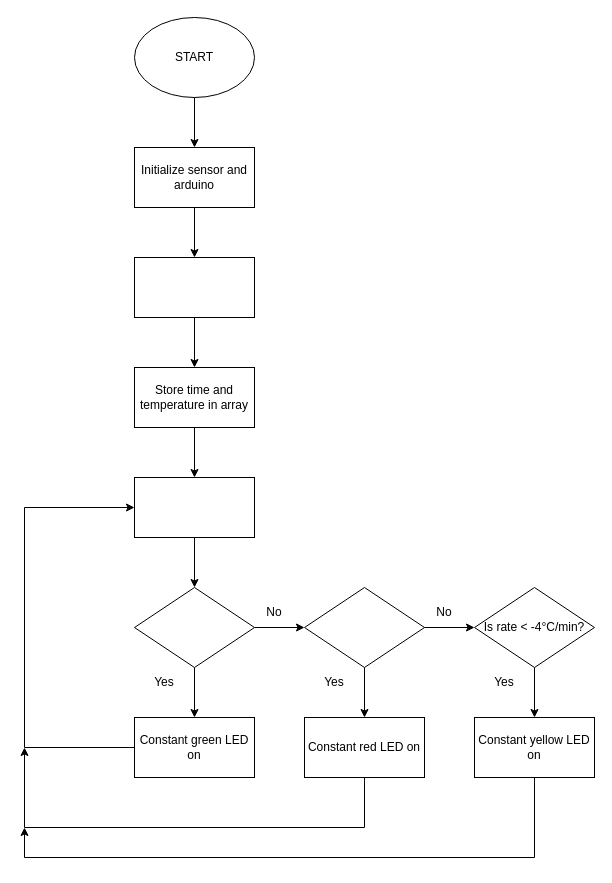
Image size: 612x883. Some labels were removed from this diagram. Each missing label, with the centre of its shape:
"Calculate temperature change rate over 5 mins" belongs at (x=194, y=507).
"Is rate > +4°C/min?" belongs at (x=364, y=627).
"Is rate within ±4°C/min?" belongs at (x=194, y=627).
"Read temperature" belongs at (x=194, y=287).
